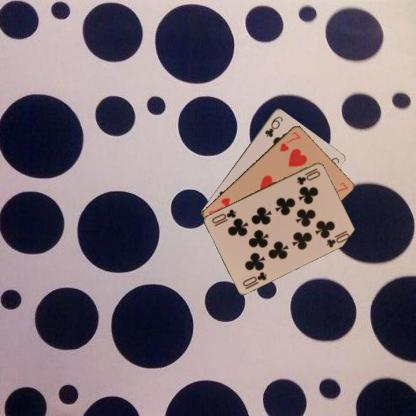10c: (294, 165, 321, 186), (240, 269, 268, 287)
6c: (262, 113, 284, 138)
7h: (277, 129, 302, 152)
